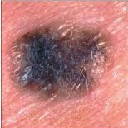Melanoma: (15, 29, 108, 93)
